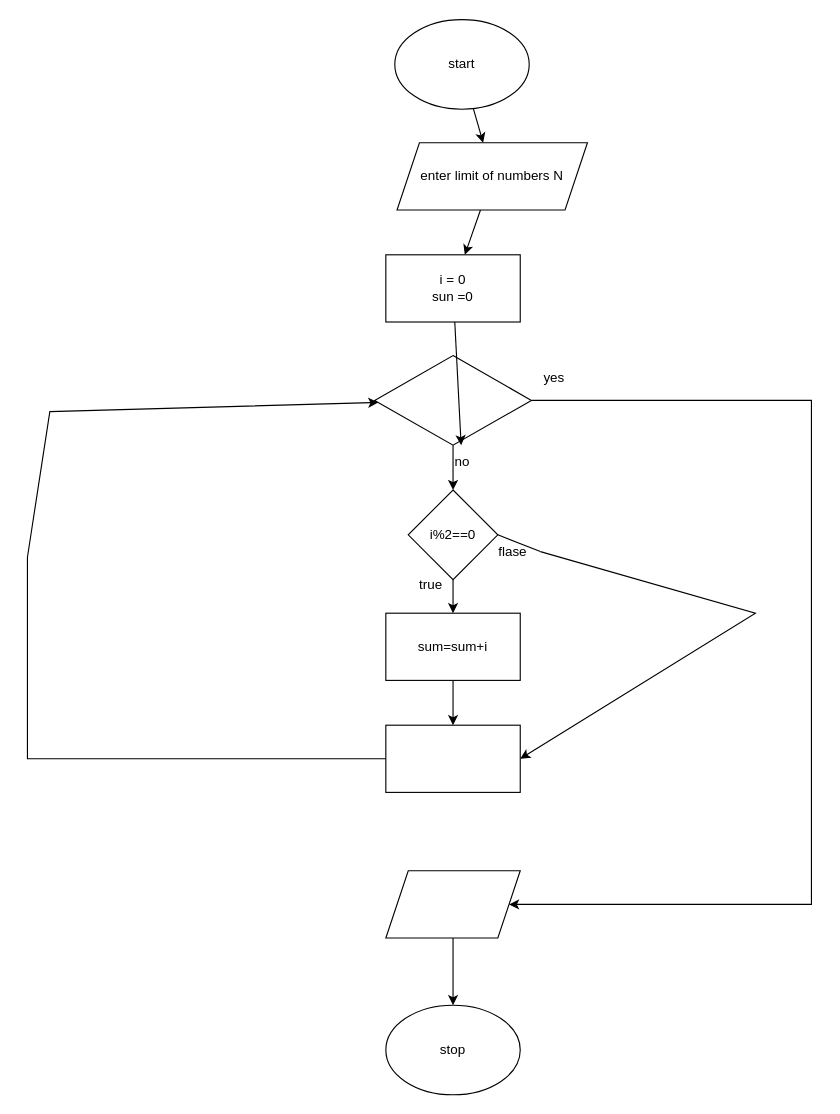
Image size: 840x1114. Some labels were removed from this diagram. The shapes that lost their labels are listed below. From the top down, each one's centre as x and y in pixels, then its label:
At (x=452, y=399): "whether i=n".
At (x=452, y=758): "compute i=i+1".
At (x=452, y=904): "print sum of even numbers".
